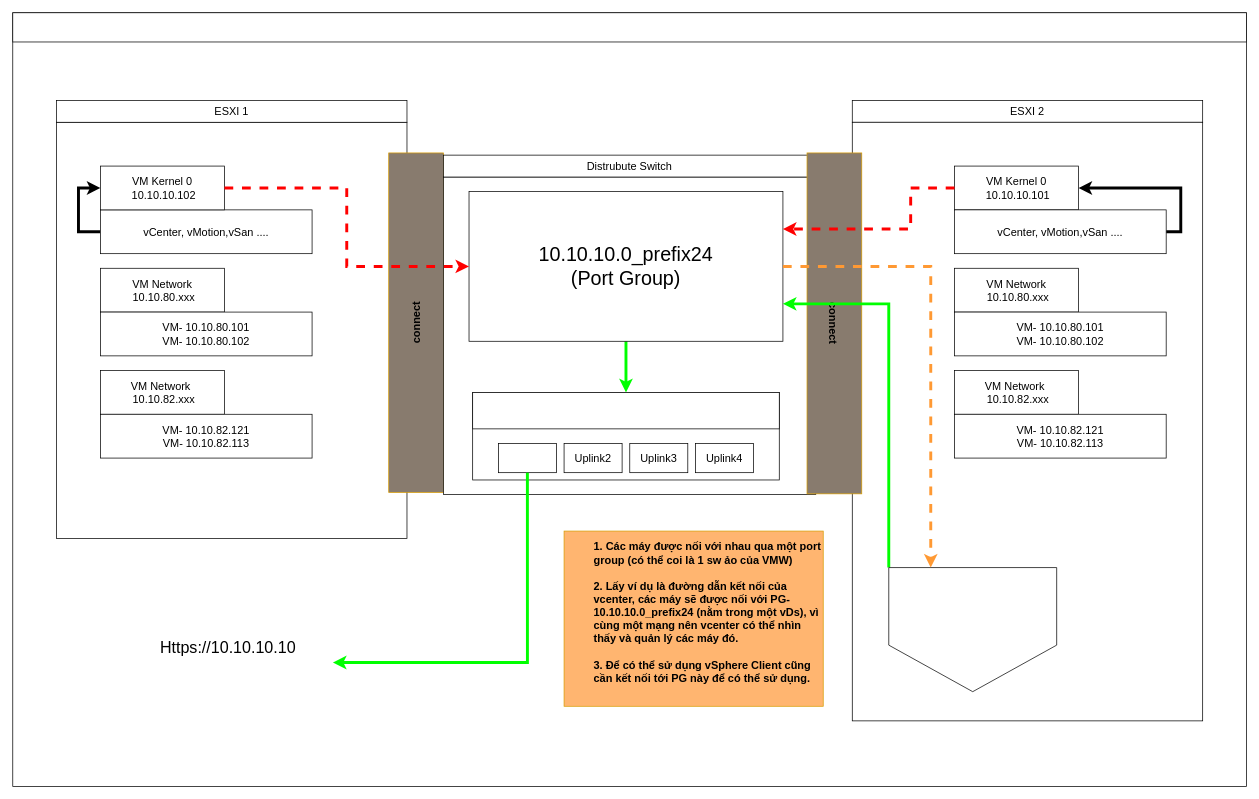
This 1259x799 diagram has some shape labels left out. Each missing label, with the centre of its shape:
"DSwitch_10G-DVUplinks-30 (Uplink group)" belongs at pixel 625 410.
"Uplink1" belongs at pixel 527 458.
"VCENTER 10.10.10.10" belongs at pixel 972 629.
"vDs" belongs at pixel 629 27.
